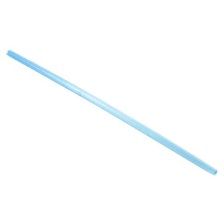drinking_straw: (0, 44, 222, 179)
